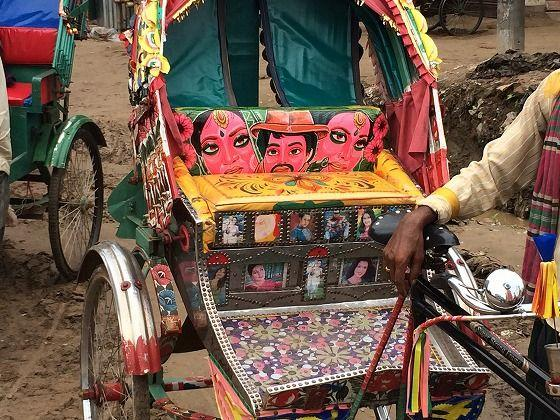Rickshaw: (79, 0, 447, 419)
